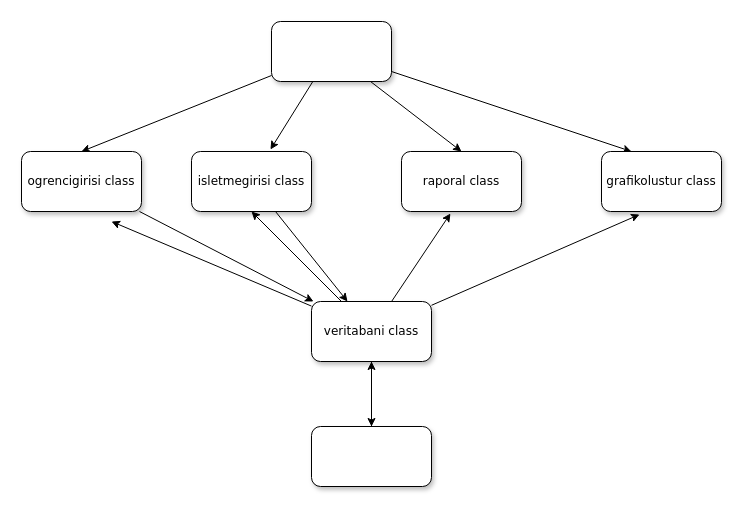
The diagram is 745 pixels wide and 511 high, and some of its shapes have lost their labels. The shapes that lost their labels are listed below. From the top down, each one's centre as x and y in pixels, then its label:
At pixel 332 52: "AnaEkran".
At pixel 372 458: "Veritabanı".
